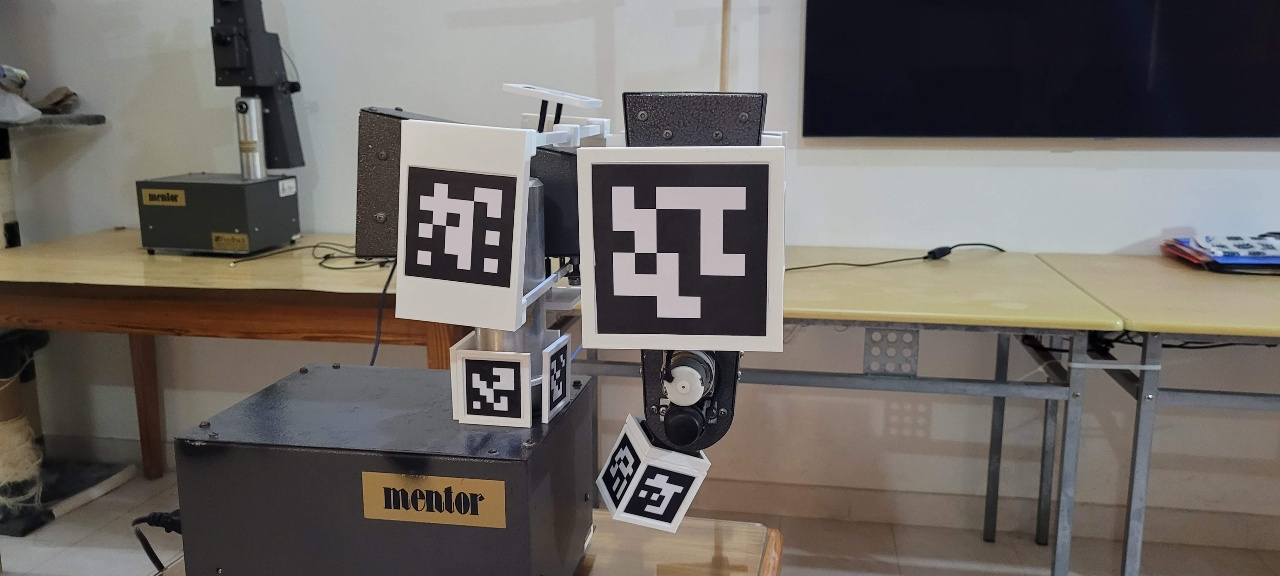Robot: (354, 81, 786, 534)
